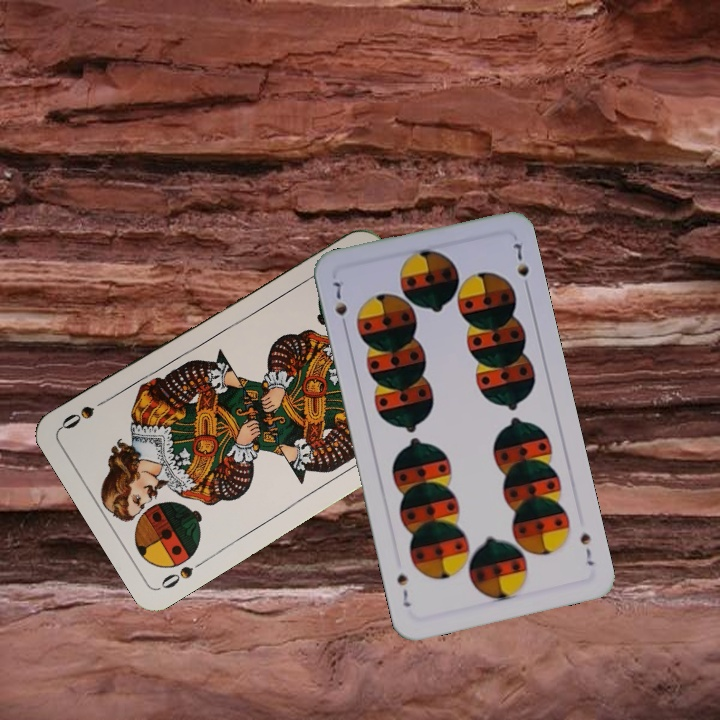S7: (329, 275, 350, 333), (576, 529, 597, 569)
SO: (157, 555, 209, 592)
